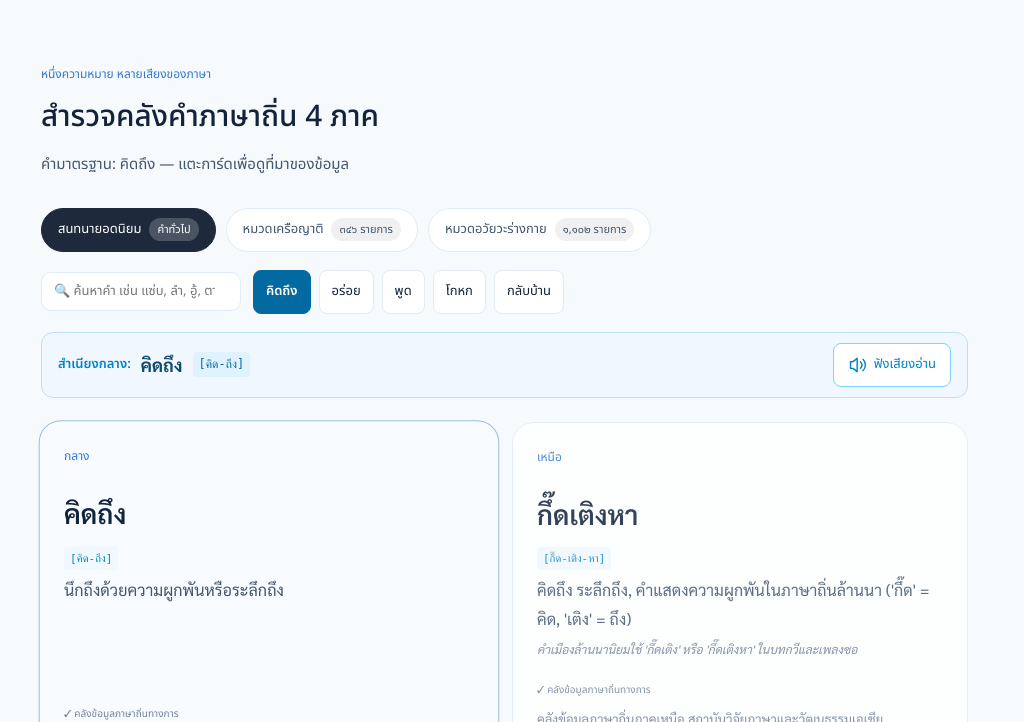
Test: DialectExplorer Component › switches categories and updates word chips accordingly
Note: Switch to Kinship category
Click the tab "หมวดเครือญาติ ๓๔๖ รายการ" at (322, 230), box [226, 208, 418, 252]
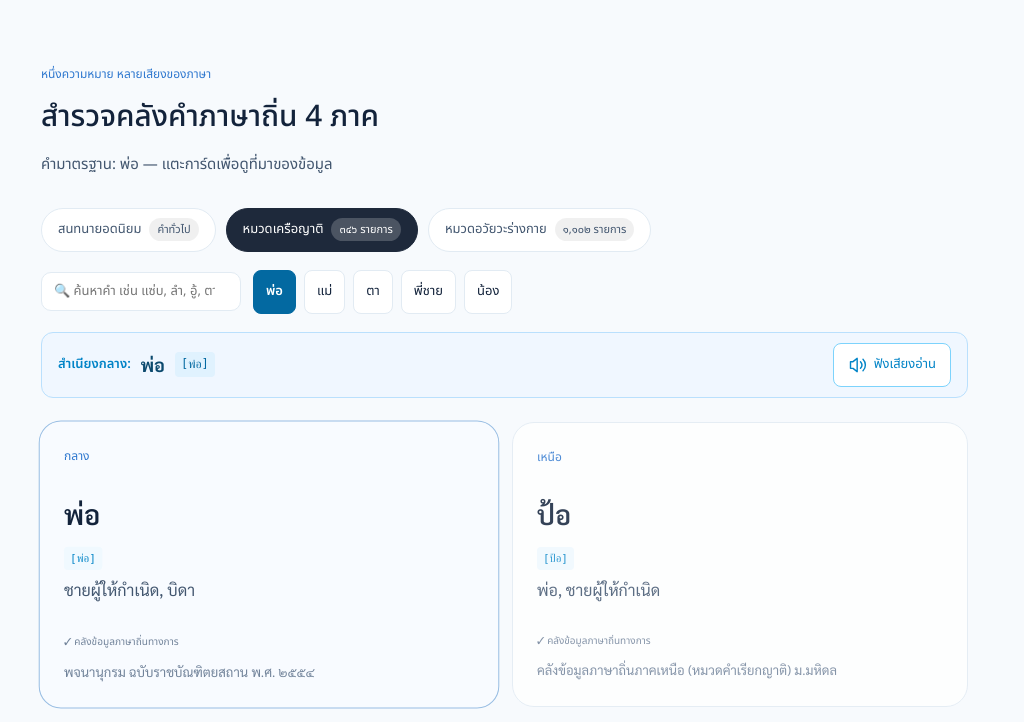
Now the button "พ่อ" is shown, box [253, 270, 296, 314]
Now the button "แม่" is shown, box [304, 270, 345, 314]
Now the button "ตา" is shown, box [353, 270, 393, 314]
Note: Switch to Body Parts category
Click the tab "หมวดอวัยวะร่างกาย ๑,๑๐๒ รายการ" at (540, 230), box [428, 208, 651, 252]
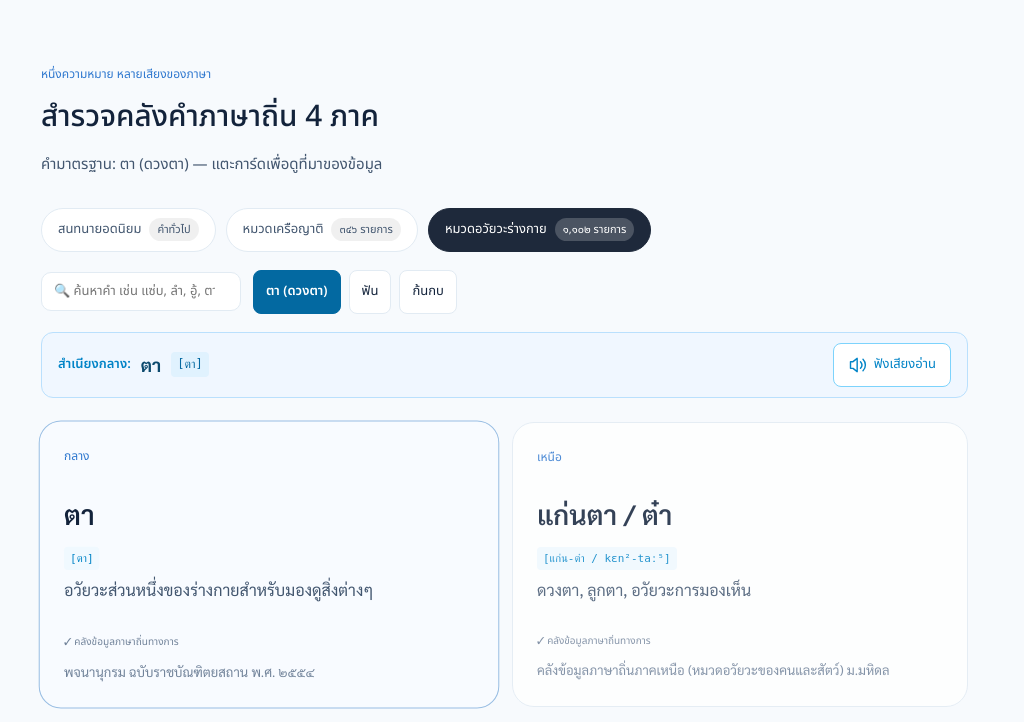
Now the button "ตา (ดวงตา)" is shown, box [253, 270, 341, 314]
Now the button "ฟัน" is shown, box [349, 270, 391, 314]
Now the button "ก้นกบ" is shown, box [399, 270, 457, 314]
